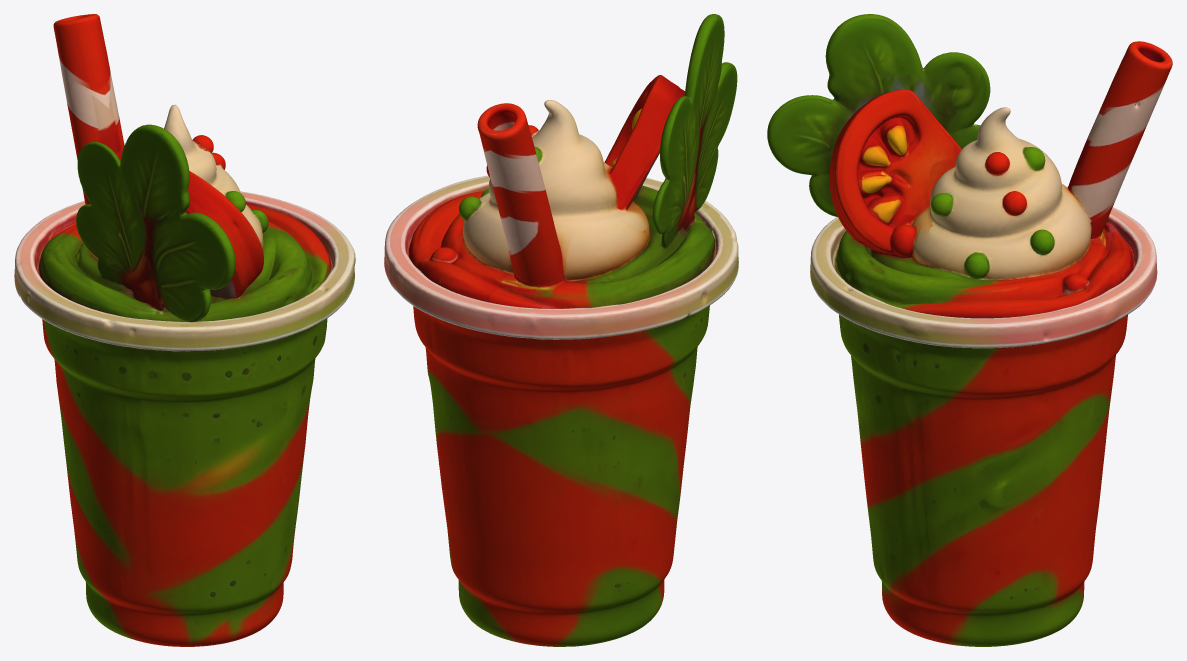
Rendered from tripo_convert_4d3f11a8-ee42-40de-a608-f9362d065d81.fbx.
3 renders of one model, left to right at view 1: azimuth 30°, elevation 25°; view 2: azimuth 150°, elevation 25°; view 3: azimuth 270°, elevation 25°, orthographic. The views are drawn at different scales.
Visible parts, largest first — view 1: tripo_node_4d3f11a8; view 2: tripo_node_4d3f11a8; view 3: tripo_node_4d3f11a8.
Part boxes in pixels (x1,y1,x2,y2): tripo_node_4d3f11a8: (14, 14, 355, 646); tripo_node_4d3f11a8: (384, 14, 738, 646); tripo_node_4d3f11a8: (767, 14, 1172, 646).
Size of the model in its own units: 0.568 by 1 by 0.6649.
